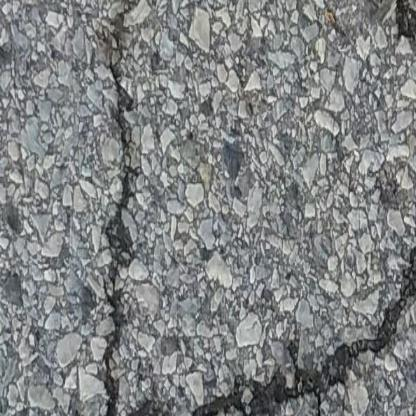Cracks: (57, 232, 416, 416), (99, 0, 145, 403), (387, 0, 416, 200)
